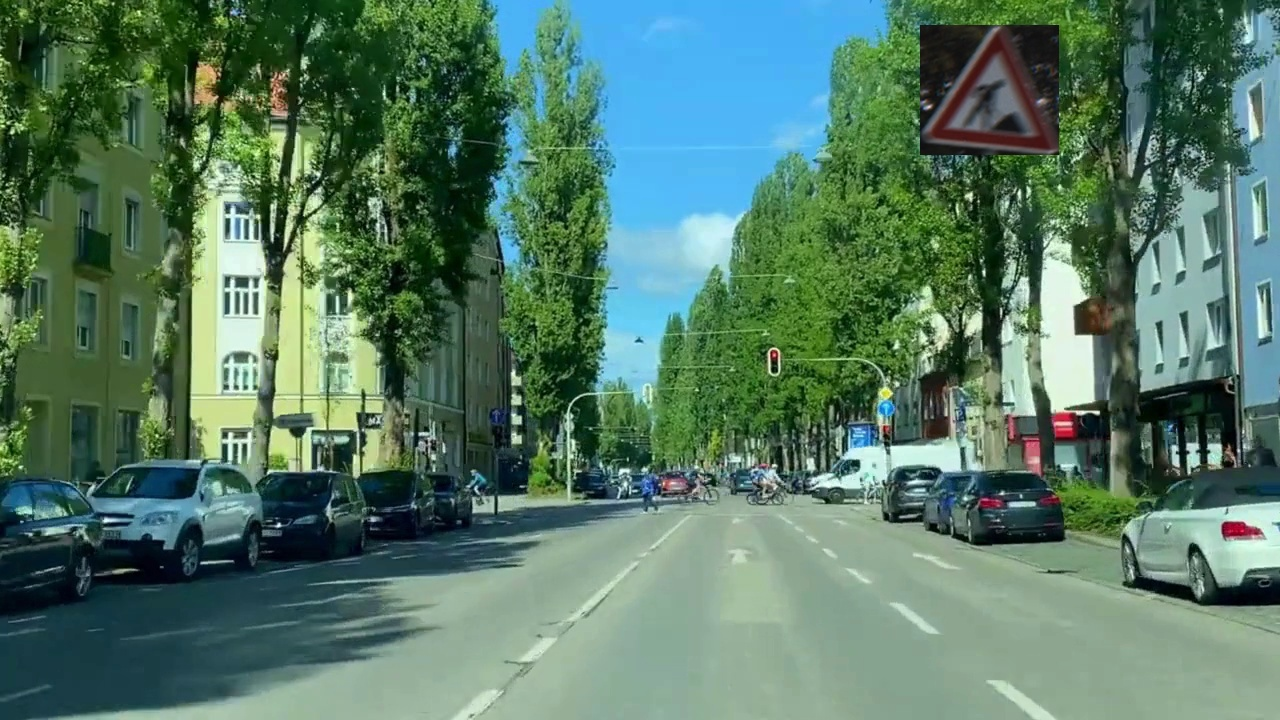Road work: (920, 25, 1059, 155)
